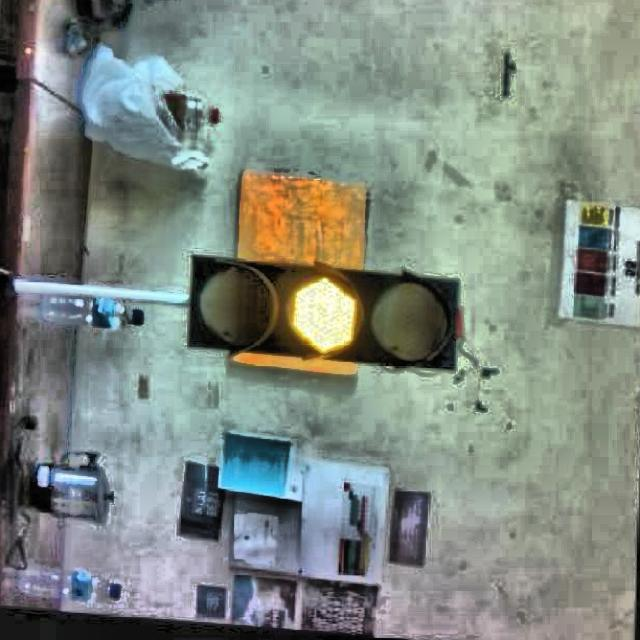yellow: (181, 255, 456, 364)
